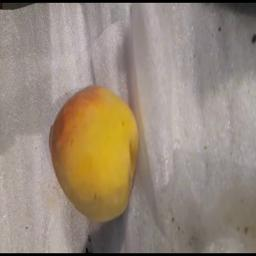Peach Semifresh: (47, 76, 156, 229)
